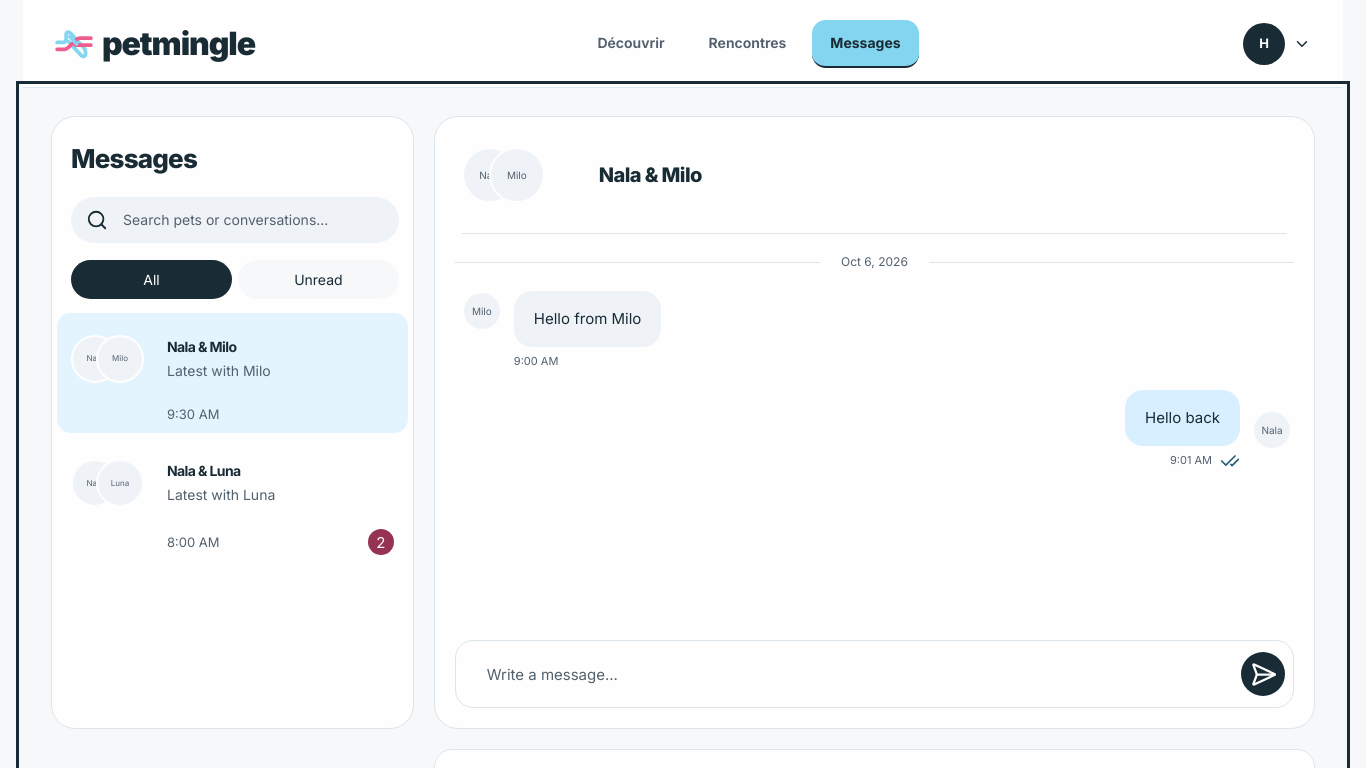
Test case: Messaging persisted reads › persists a message and updates the active thread after success
This screenshot has width=1366, height=768.
Expected: the text "Hello from Milo" is shown, [514, 291, 661, 347]
Type " Persisted hello " into the field labelled "Write a message".
click(848, 674); type(" Persisted hello ")  # box [464, 650, 1233, 698]
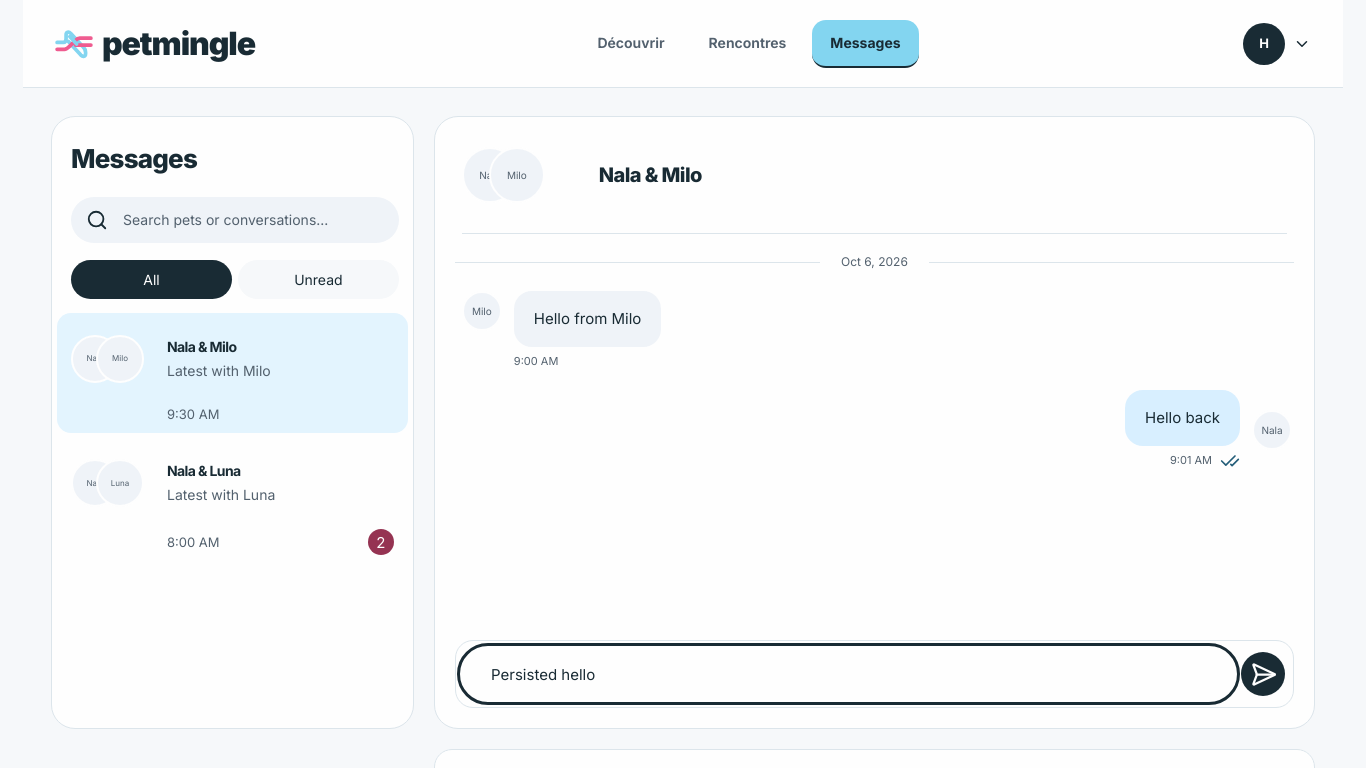
Click the button named "Send message".
click(1263, 674)  # box [1241, 652, 1285, 696]
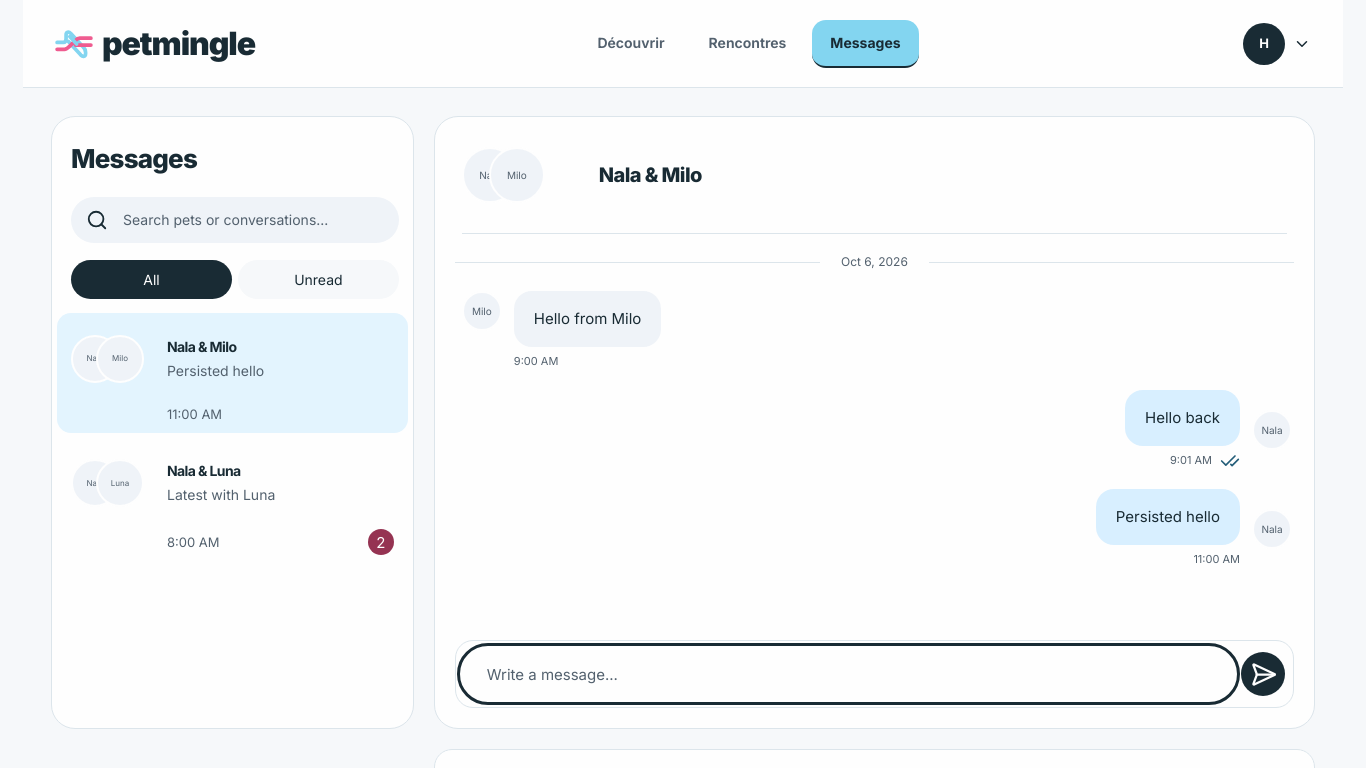
Result: the text "Persisted hello" below "9:01 AM" is shown at [1116, 507, 1220, 526]
Result: the field labelled "Write a message" is empty at [464, 650, 1233, 698]
